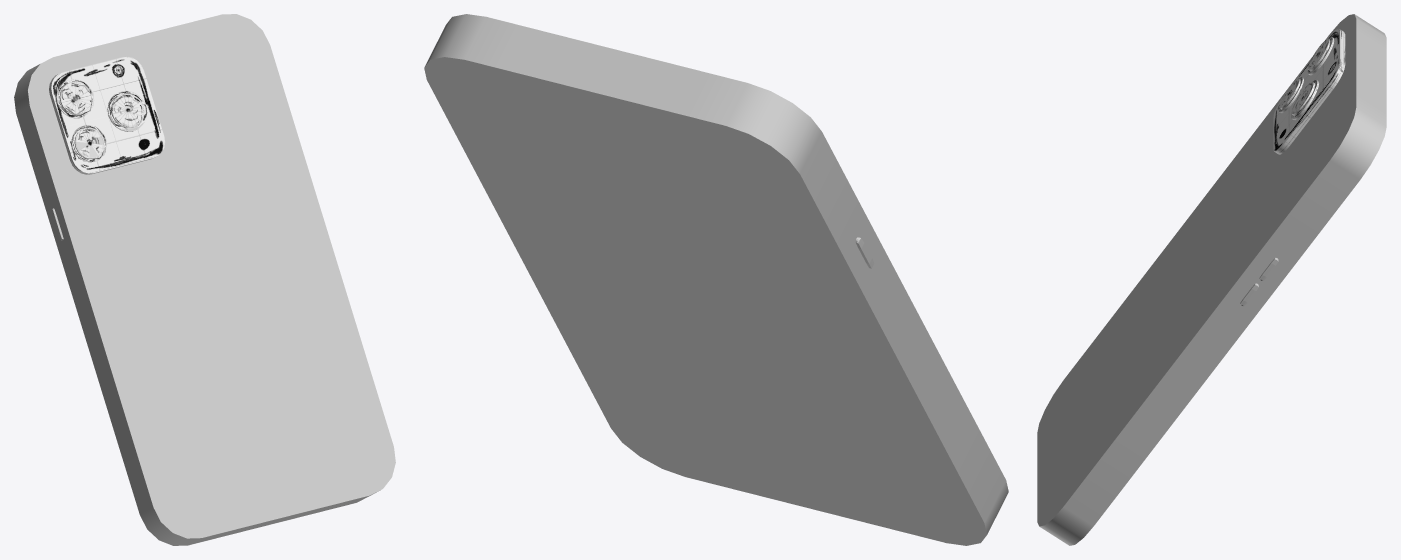
File: IPhone_with_animation.fbx
3 views of the same model, side by side, from view 1: azimuth 30°, elevation 25°; view 2: azimuth 150°, elevation 25°; view 3: azimuth 270°, elevation 25° (orthographic). The views are drawn at different scales.
Visible parts, largest first — view 1: main_phone_part2; view 2: main_phone_part2; view 3: main_phone_part2.
Boxes of the visible parts, bbox=[...] form: main_phone_part2: bbox=[14, 14, 395, 545]; main_phone_part2: bbox=[424, 14, 1008, 545]; main_phone_part2: bbox=[1037, 14, 1386, 545].
Size of the model in its own units: 4.93 by 7.57 by 5.53.
